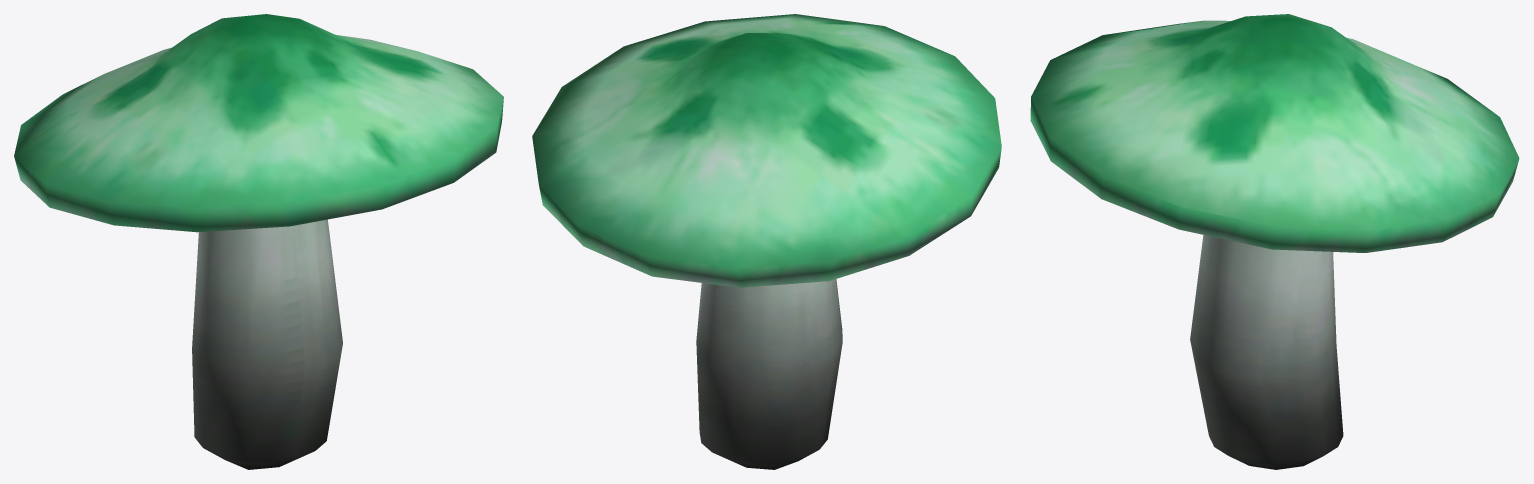
The model's file is INST_TROLLHOLE_SHROOMB3.fbx.
3 views of the same model, side by side, from view 1: azimuth 30°, elevation 25°; view 2: azimuth 150°, elevation 25°; view 3: azimuth 270°, elevation 25° (orthographic). The views are drawn at different scales.
Parts seen in each view (by area): view 1: INST_TROLLHOLE_SHROOMB3; view 2: INST_TROLLHOLE_SHROOMB3; view 3: INST_TROLLHOLE_SHROOMB3.
Part boxes in pixels (<box>): INST_TROLLHOLE_SHROOMB3: <box>14,14,503,469</box>; INST_TROLLHOLE_SHROOMB3: <box>532,14,1001,469</box>; INST_TROLLHOLE_SHROOMB3: <box>1030,14,1519,469</box>.
Bounding box in the file's own units: 22785 × 22278 × 22603.
Materials: 1 (1 with a texture image).
